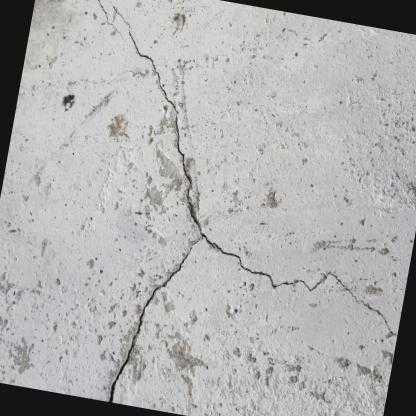crack: (107, 5, 396, 402), (97, 0, 121, 35)
